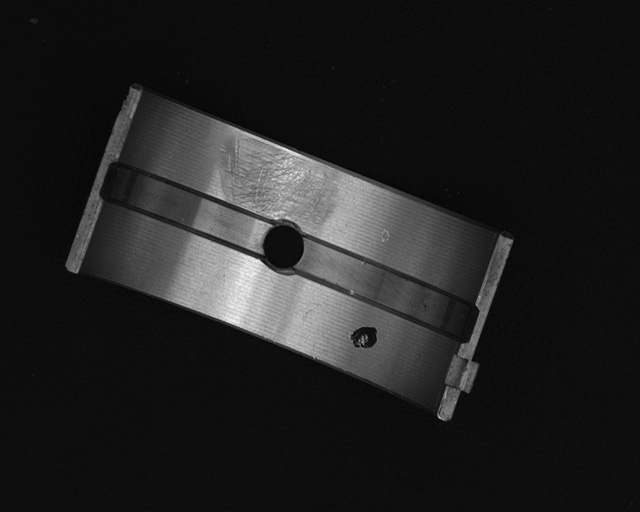blot: (349, 325, 379, 352)
bruise: (380, 228, 390, 245)
gap: (295, 236, 473, 337), (102, 164, 271, 252)
hole: (260, 221, 306, 274)
scratch: (217, 134, 335, 226)
